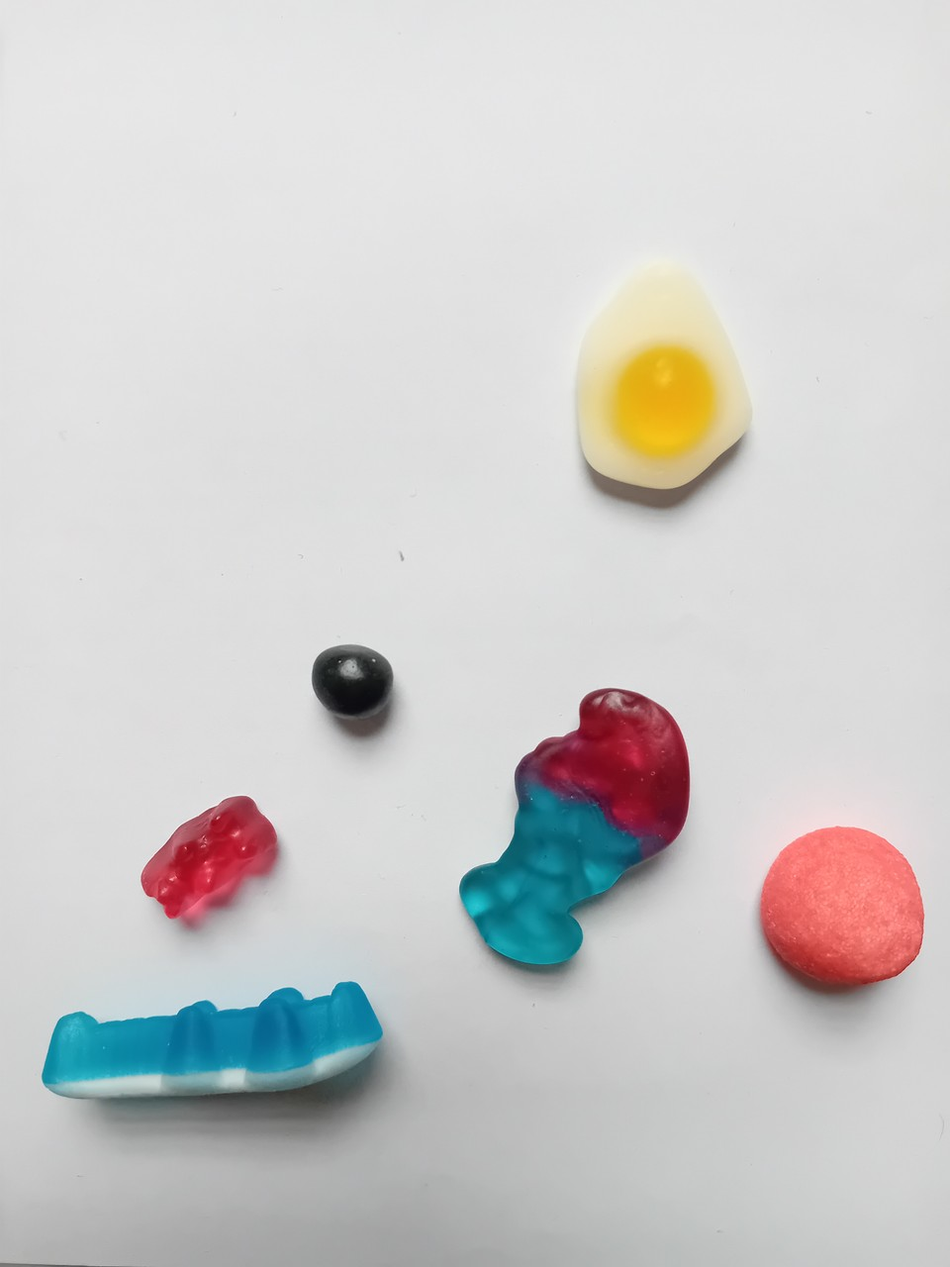crocodile_bleu: (36, 972, 389, 1107)
dragibus_noir: (306, 632, 398, 723)
oeuf_oeuf: (574, 243, 759, 495)
ourson_rouge: (135, 785, 282, 923)
schtroumpf_bleu-rouge: (450, 686, 691, 979)
tagada_fraise: (748, 803, 930, 1004)
